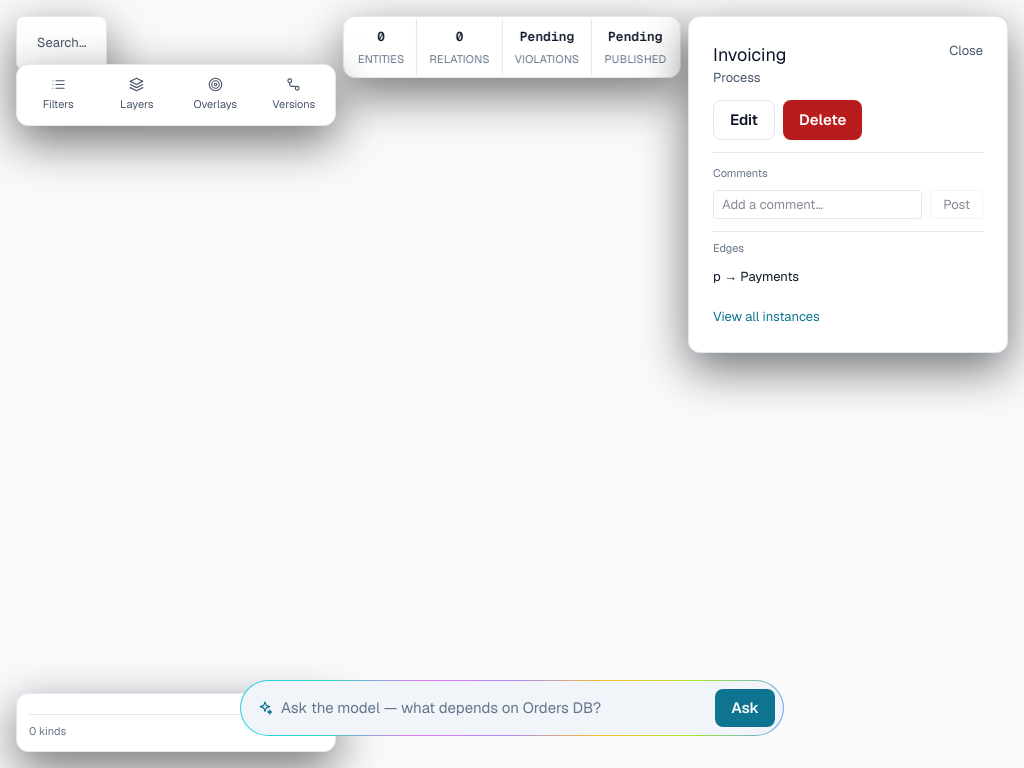
it: ExplorerInteractions -- TASK-024 property edit + delete › surfaces a conflict notice when the drift head advances between edit-start and save
Expected: the text "Invoicing" is shown, [713,41,786,68]
Click the button "Edit" at (744, 120), box [713,100,775,140]
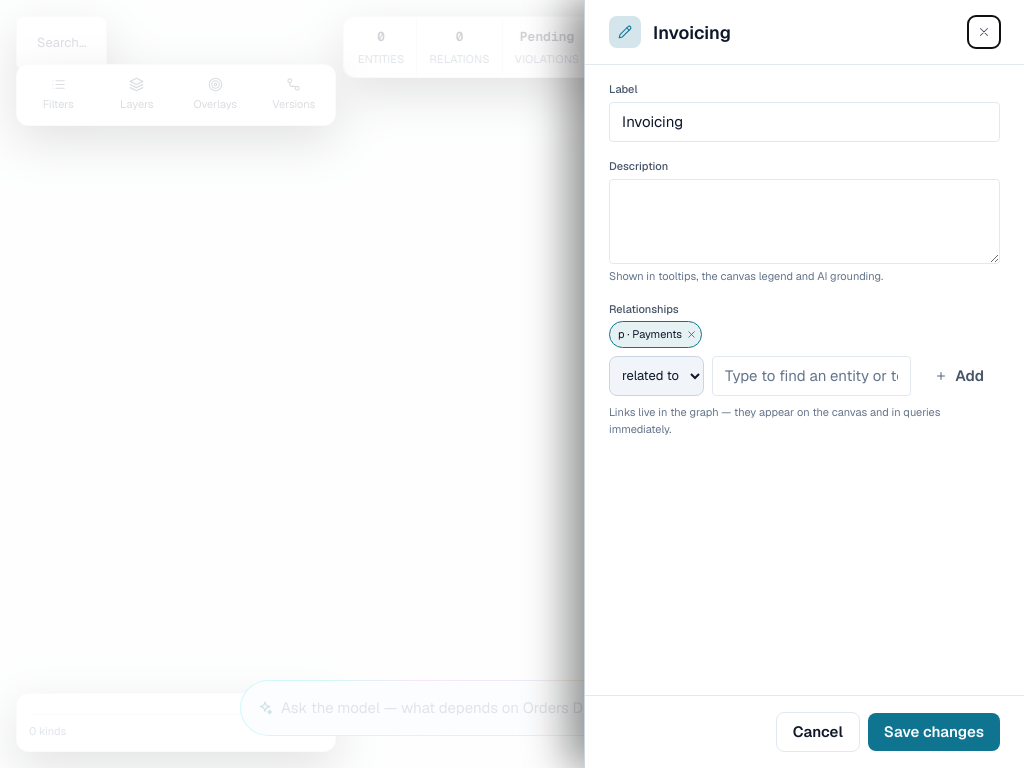
Click the button "Save changes" at (934, 732), box [868,712,1000,751]
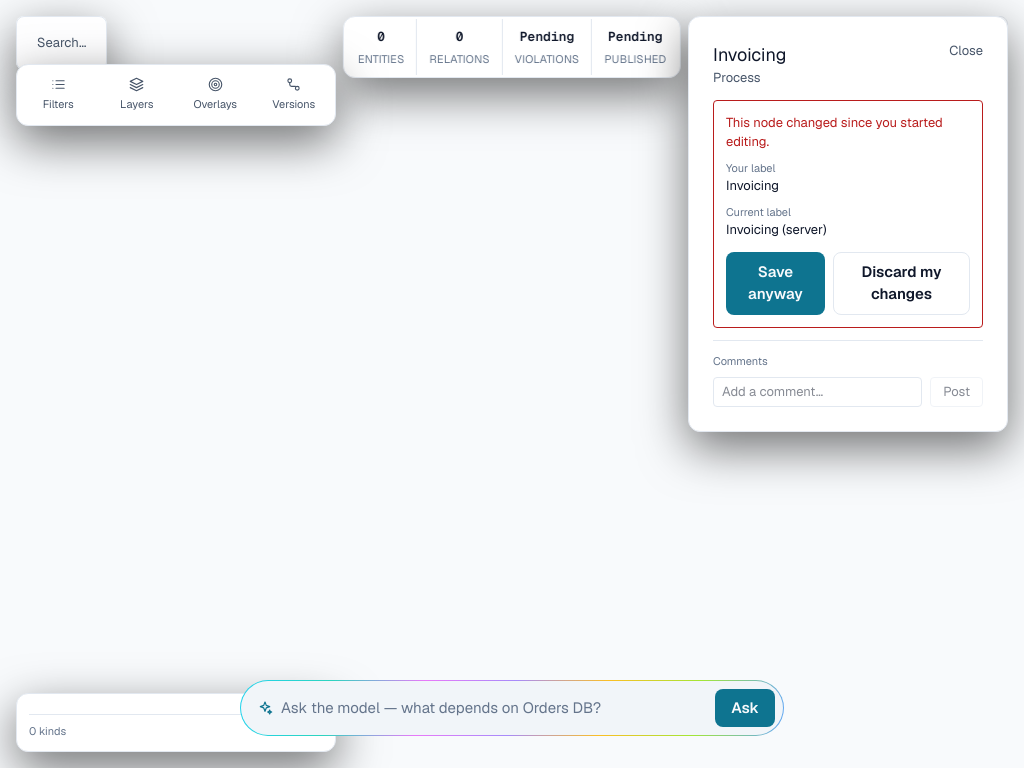
Now the text "This node changed since you started editing." is shown, box [726,112,970,152]
